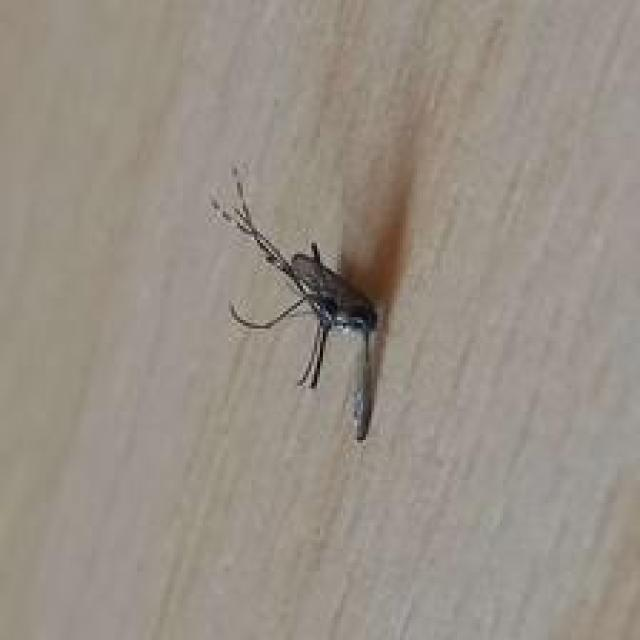Aedes albopictus: (208, 165, 383, 442)
